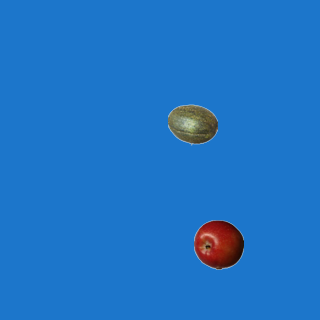Apple Braeburn: (193, 219, 243, 269)
Melon Piel de Sapo: (167, 99, 217, 149)
